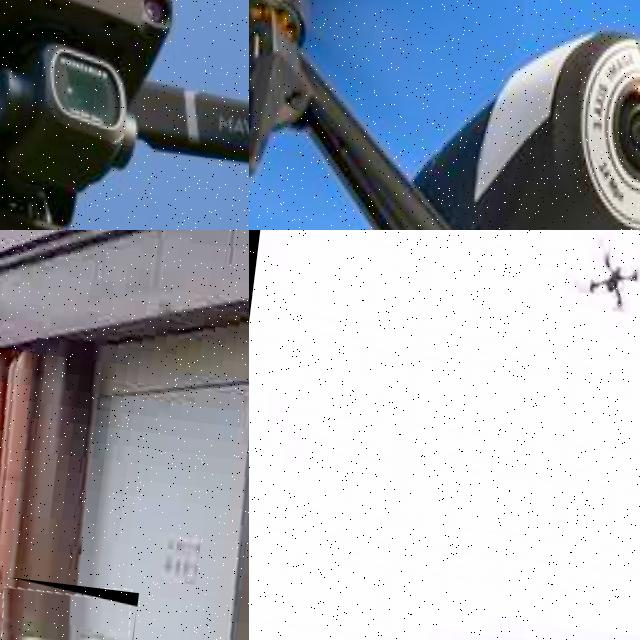0: (0, 577, 138, 640), (562, 230, 640, 317)
drone: (249, 0, 640, 230), (0, 0, 249, 230)
